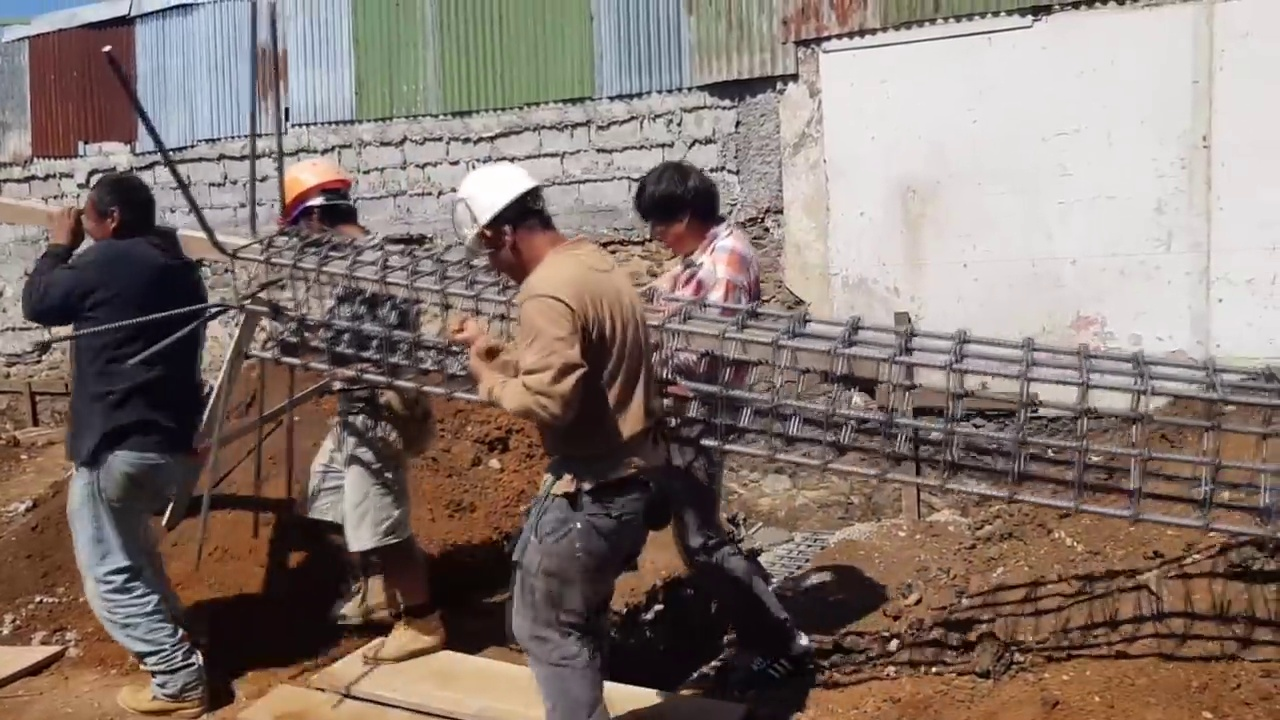helmet: (451, 160, 545, 262), (271, 159, 348, 218)
helmet-off: (635, 163, 724, 262), (70, 175, 148, 244)
helmet-on: (450, 161, 583, 289), (271, 155, 368, 253)
person: (443, 163, 670, 718), (28, 154, 217, 720), (613, 167, 808, 707), (268, 156, 437, 649)
